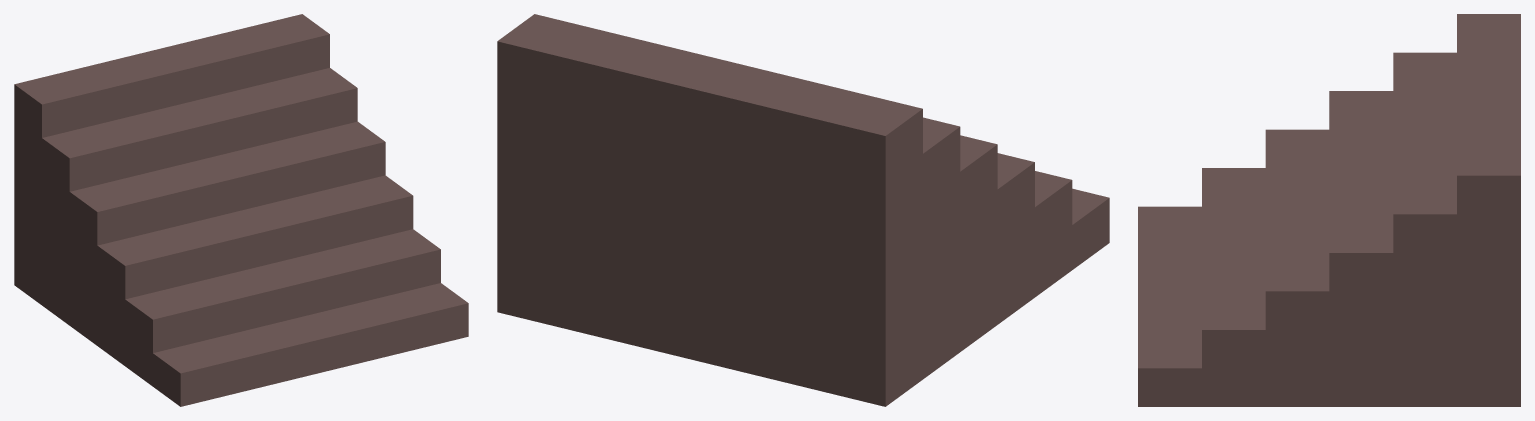
The model's file is Stairs_Mid-1.fbx.
3 renders of one model, left to right at view 1: azimuth 30°, elevation 25°; view 2: azimuth 150°, elevation 25°; view 3: azimuth 270°, elevation 25°, orthographic. The views are drawn at different scales.
Visible parts, largest first — view 1: Stairs_Mid_1; view 2: Stairs_Mid_1; view 3: Stairs_Mid_1.
Part boxes in pixels (left/top/right/bottom): Stairs_Mid_1: left=14, top=14, right=468, bottom=406; Stairs_Mid_1: left=497, top=14, right=1109, bottom=406; Stairs_Mid_1: left=1138, top=14, right=1520, bottom=406.
Bounding box in the file's own units: 180 × 120 × 180.
